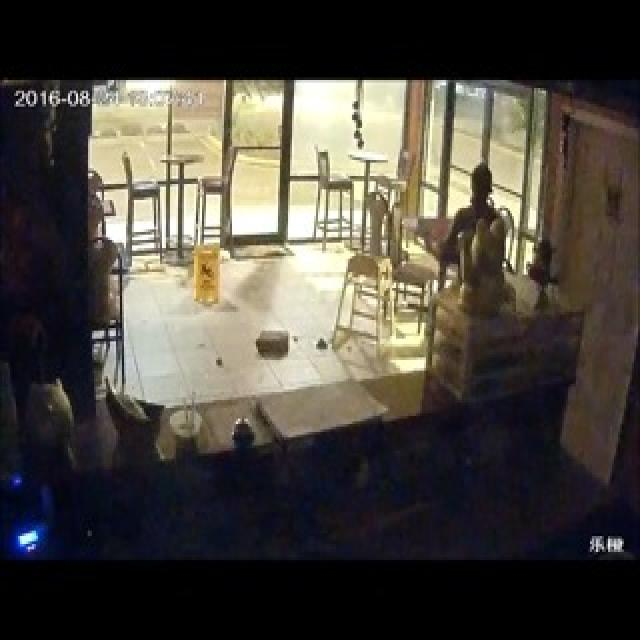thief: (448, 146, 506, 222)
